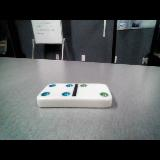domino: (37, 84, 112, 107)
